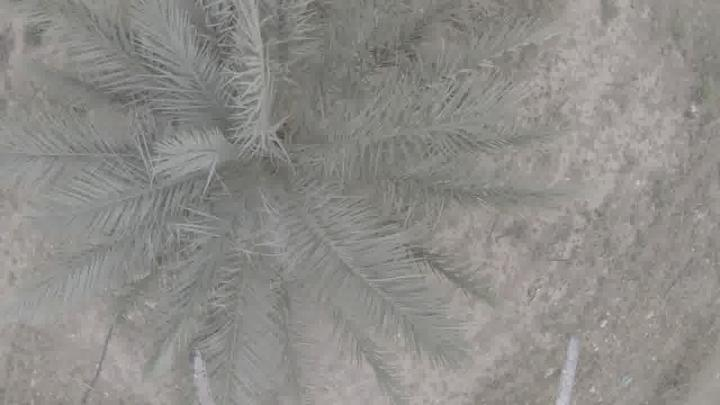Date-Palm-Crown: (108, 0, 436, 300)
